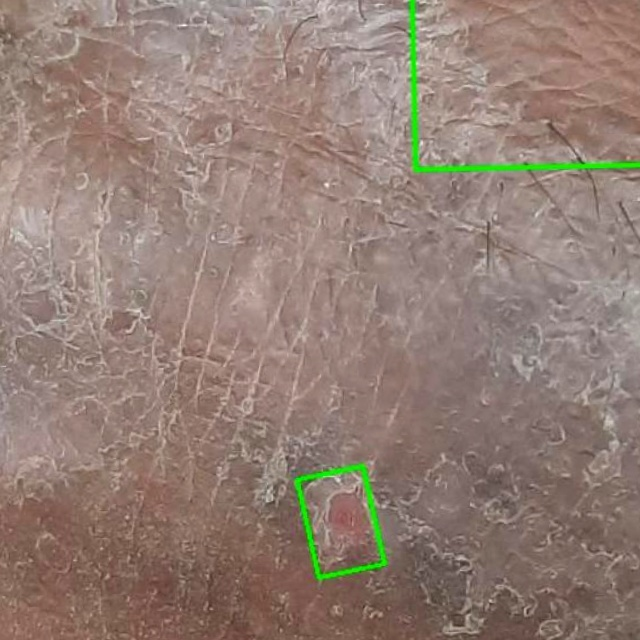Eczema: (412, 0, 639, 169), (298, 465, 384, 578)
